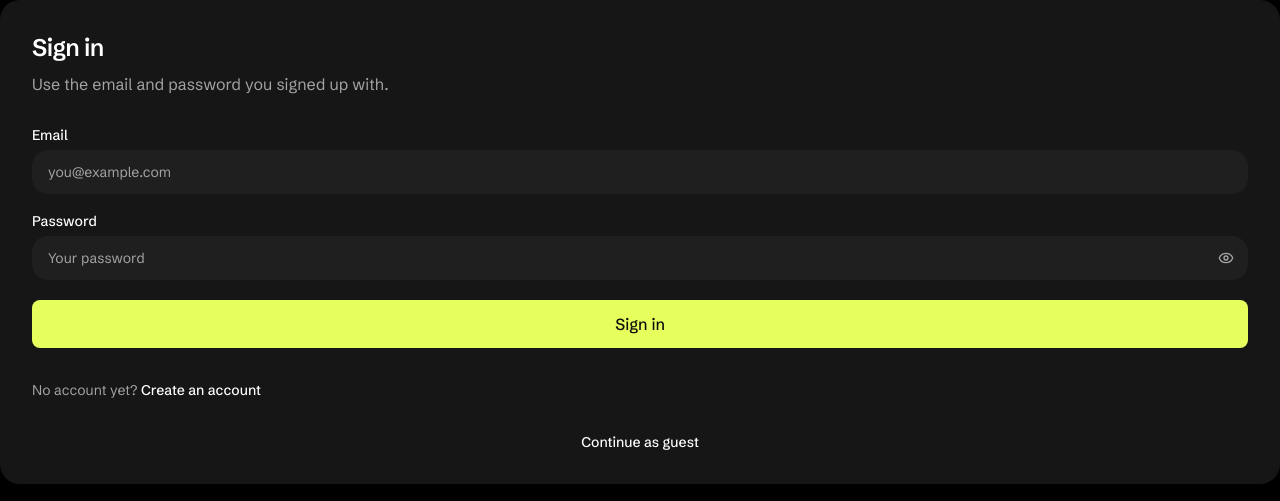
SignInForm › disables the button while signing in
Step 1. Type "ada@example.com" into the field labelled "Email" → {"x": 640, "y": 172}, box [32,150,1248,194]
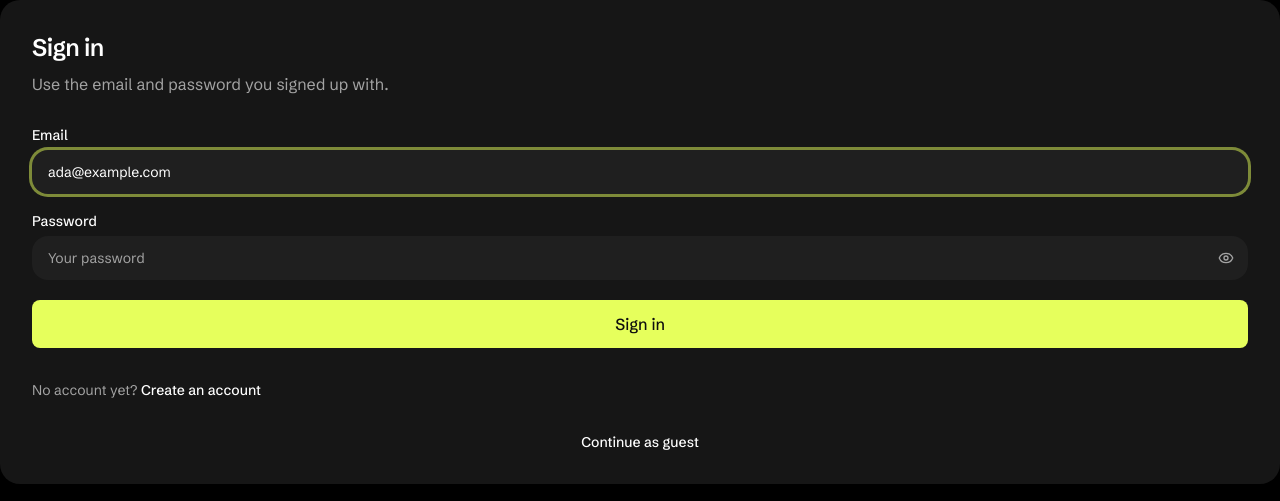
Step 2. Type "correct horse" into the password field labelled "Password" → {"x": 640, "y": 258}, box [32,236,1248,280]
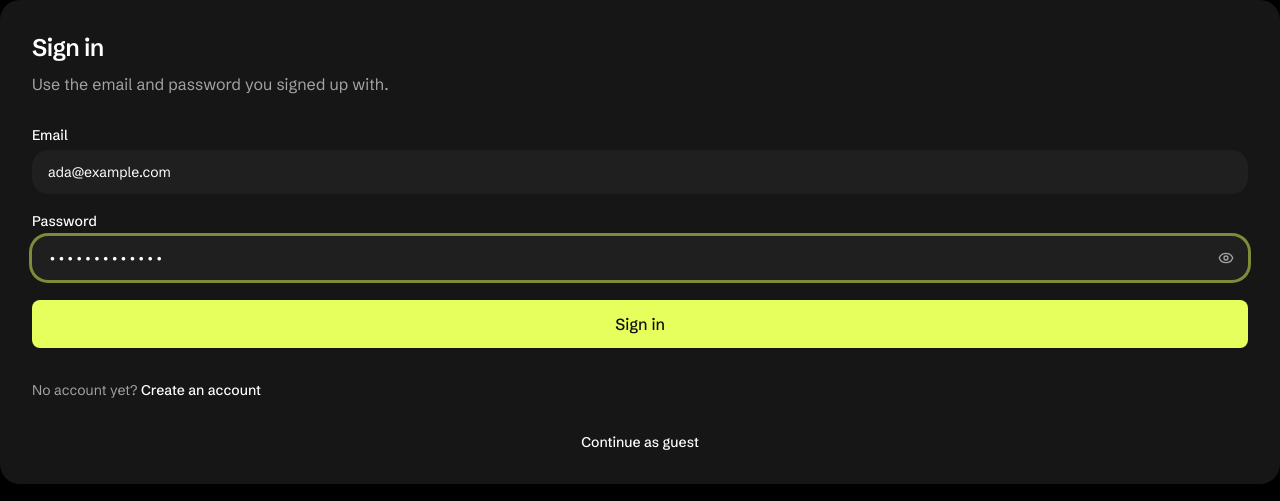
Step 3. Click the button "Sign in" → {"x": 640, "y": 324}, box [32,300,1248,348]
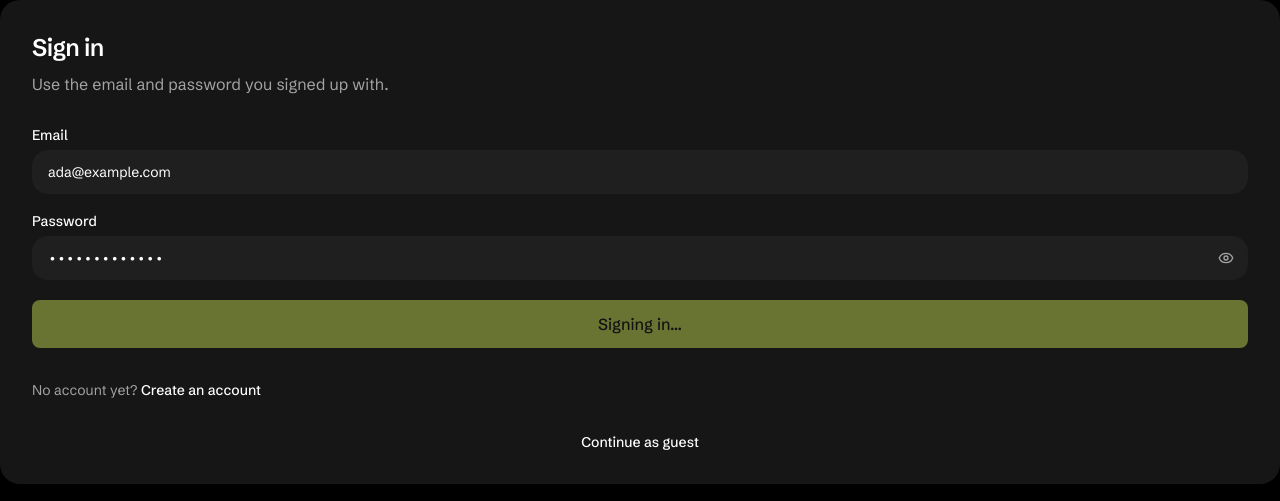
Result: the button "Signing in…" is disabled at [32,300,1248,348]
